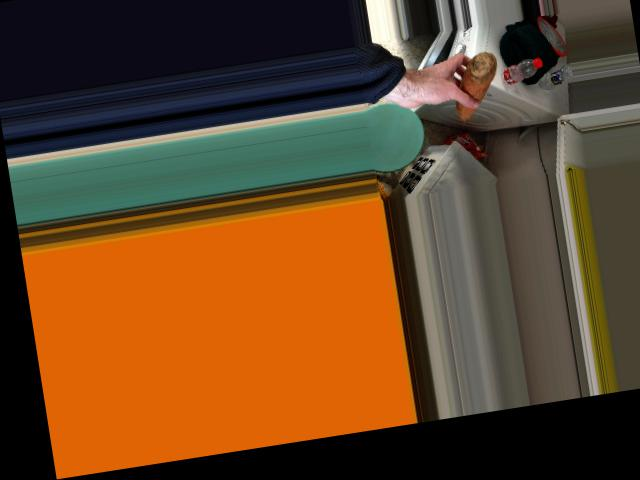sweet_potato: (450, 50, 505, 122)
